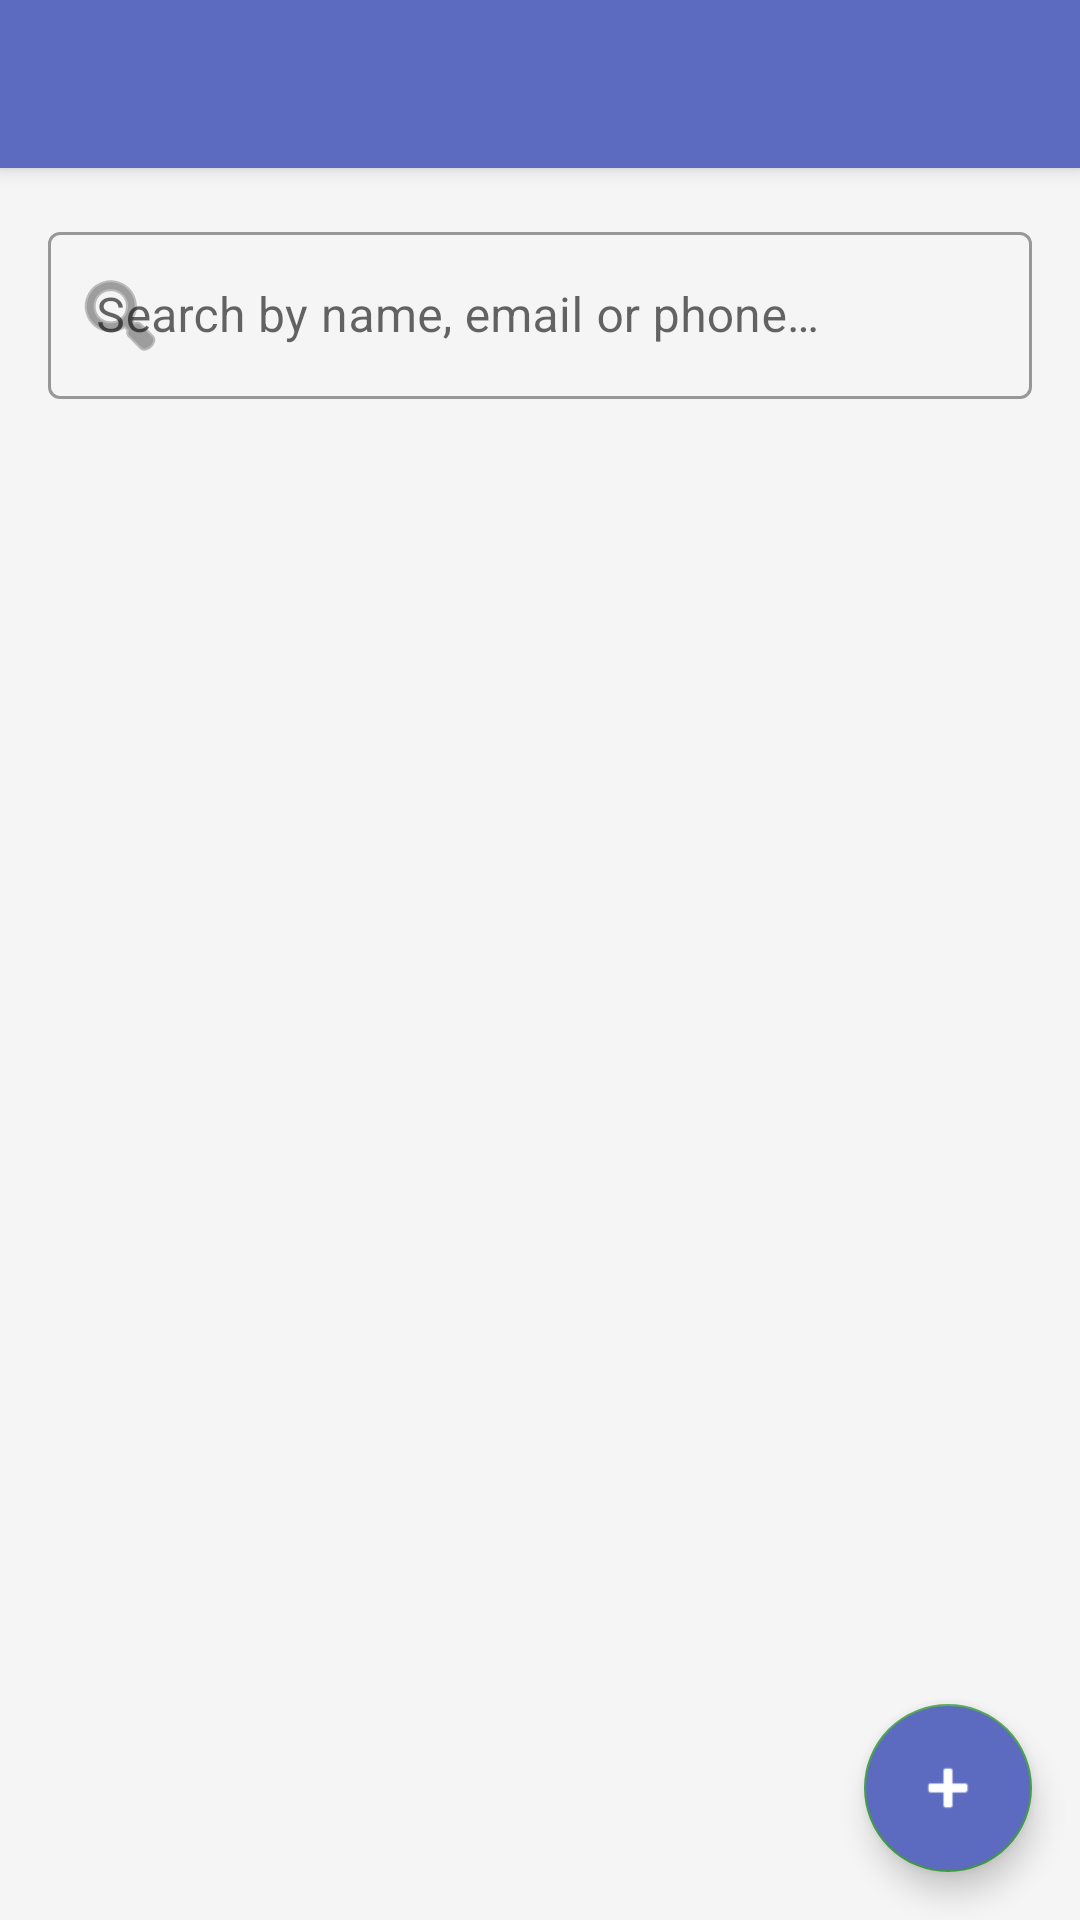

Locate icon controls on the screen. Image size 1080×1920, boxes as (x1, y1, x2, y2).
Add Customer: (864, 1704, 1032, 1872)
